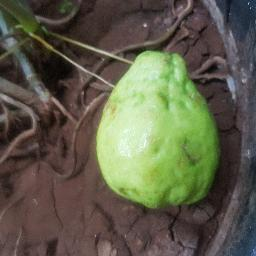Good_guava: (95, 39, 225, 214)
